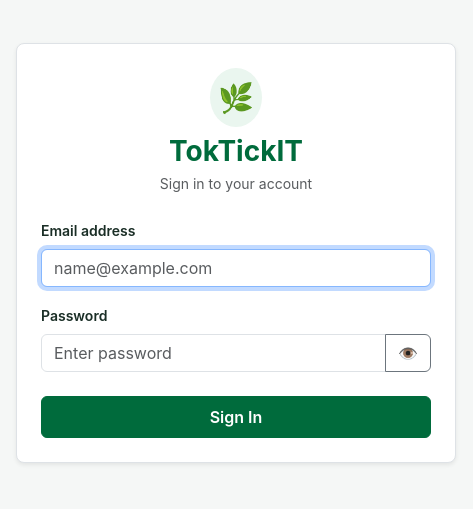
Test: Phase F2 / P06 UI-01, UI-02, UI-03 Login & Navigation Tests › UI-02: Login busy state and error alert banners › disables form controls during submit and shows error alert on failure
Type "wrong@example.com" into the field with test id "login-email-input". click: coordinates (236, 268)
box: [41,249,431,287]
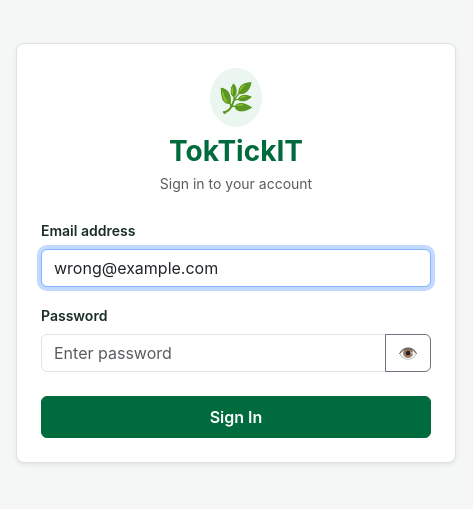
Type "WrongPass123!" into the password field with test id "login-password-input". click: coordinates (214, 353)
box: [41,334,386,372]
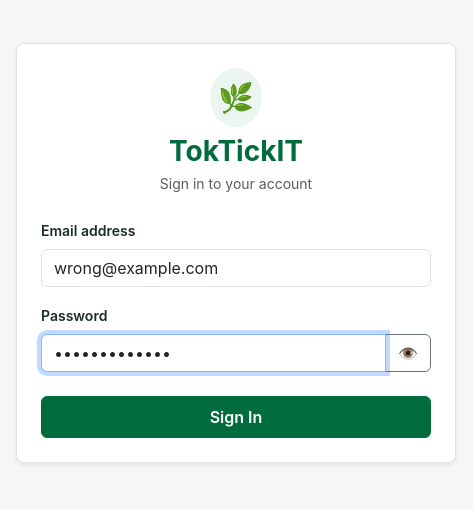
Click the button with test id "login-submit-button". click: coordinates (236, 417)
box: [41,396,431,438]
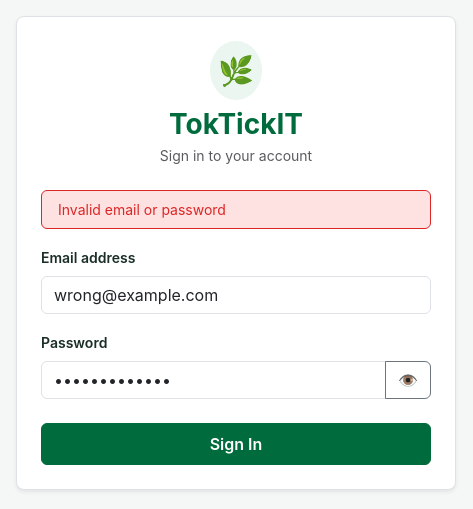
Expected: the message "Invalid email or password" is shown, [41,190,431,229]
Expected: the message with test id "login-error-alert" reads "Invalid email or password", [58,201,226,218]
